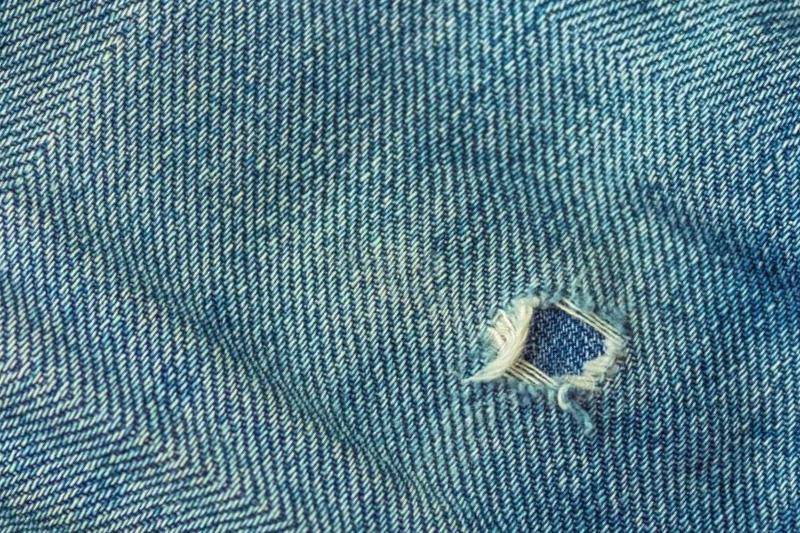hole: (489, 288, 619, 396)
